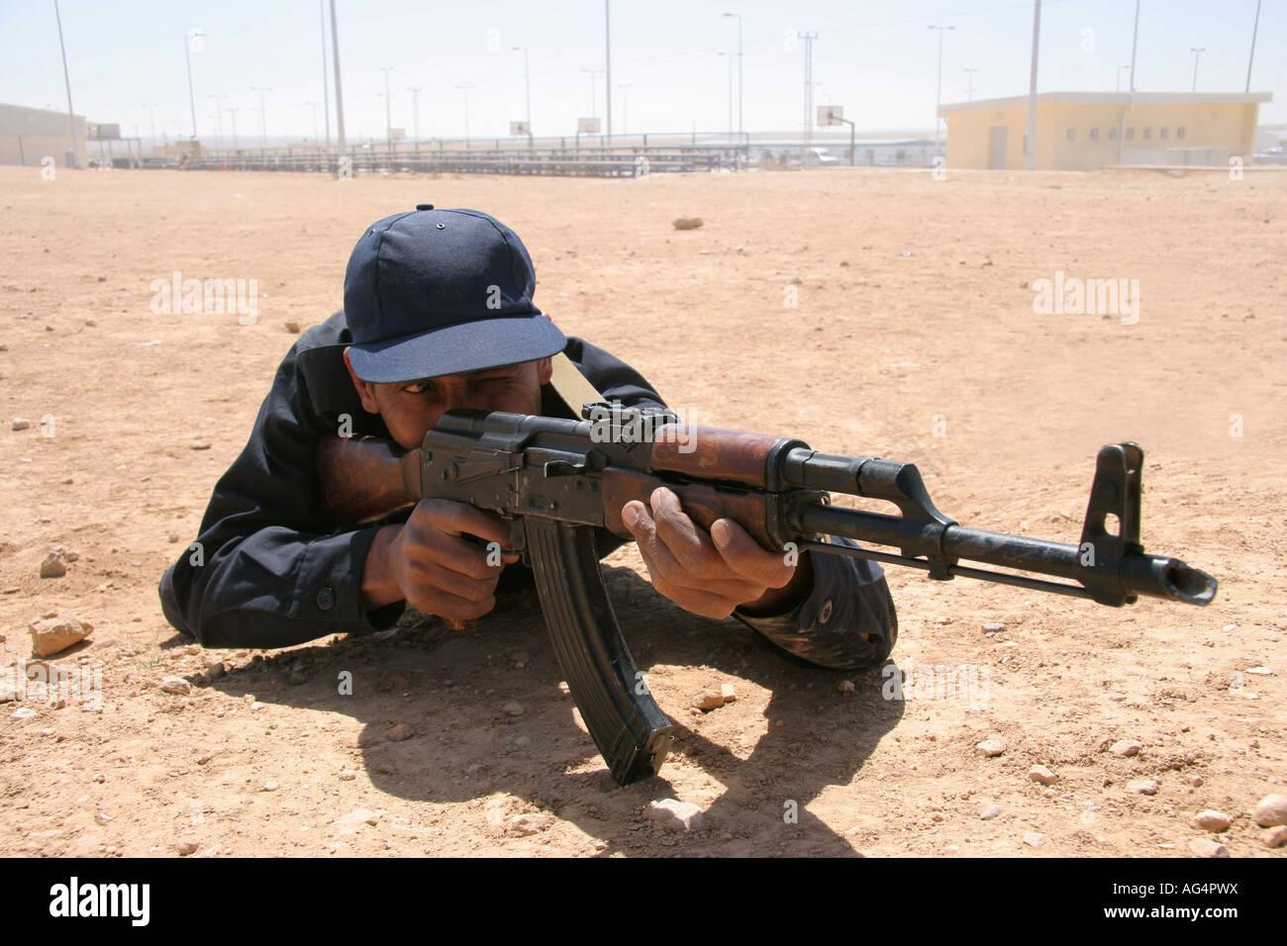larga: (305, 402, 1223, 786)
